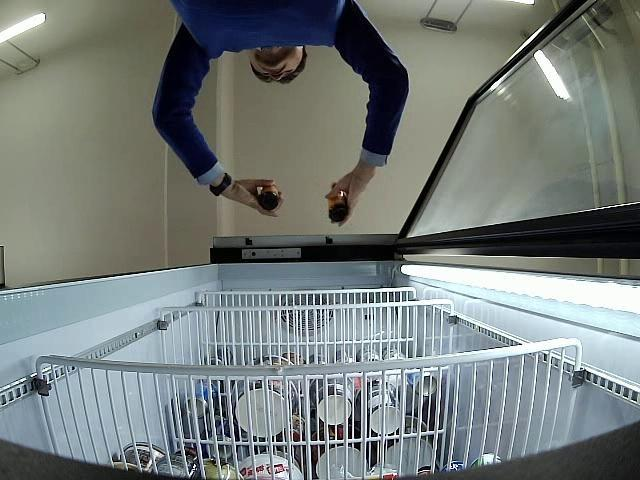17_vita500: (328, 182, 352, 225), (259, 184, 278, 212)
